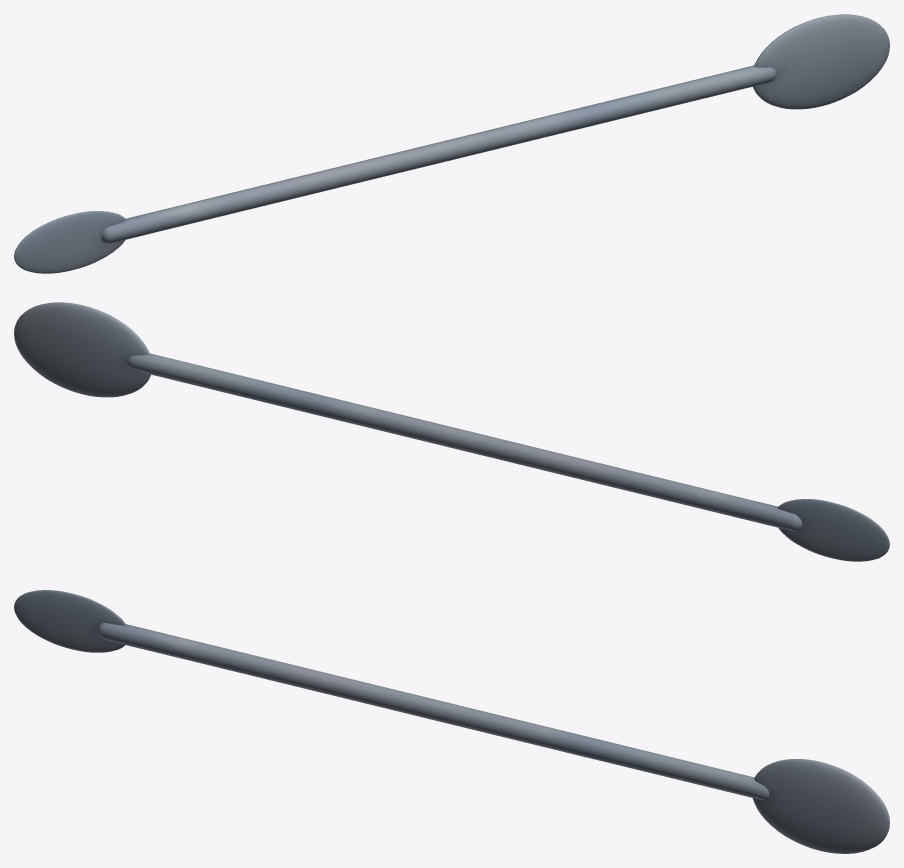
The model's file is spatula.glb.
3 views of the same model, one above another, from view 1: azimuth 30°, elevation 25°; view 2: azimuth 150°, elevation 25°; view 3: azimuth 330°, elevation 25° (orthographic).
Visible parts, largest first — view 1: spatula-steel; view 2: spatula-steel; view 3: spatula-steel.
Boxes of the visible parts, x1,y1,x2,y2 form: spatula-steel: (14, 14, 889, 273); spatula-steel: (14, 302, 889, 561); spatula-steel: (14, 590, 889, 853).
Size of what is drawn, in the model's own units: 19.65 by 1.9 by 0.4023.
